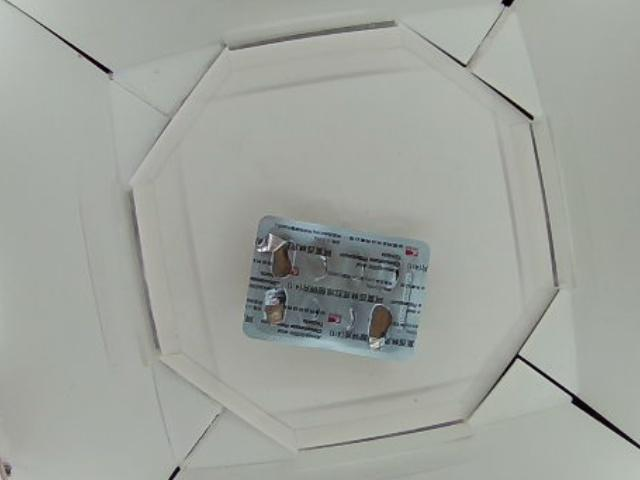Medicine: (240, 213, 434, 362)
